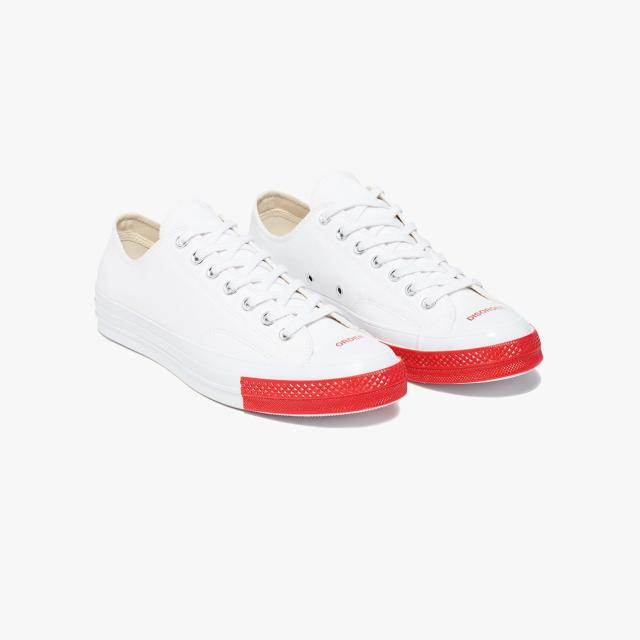shoe: (84, 200, 412, 418), (247, 175, 548, 384)
